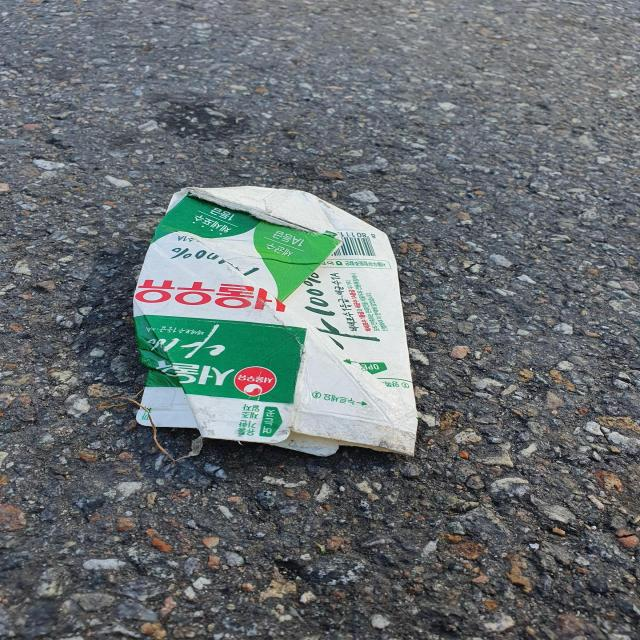paperpack: (134, 186, 417, 456)
